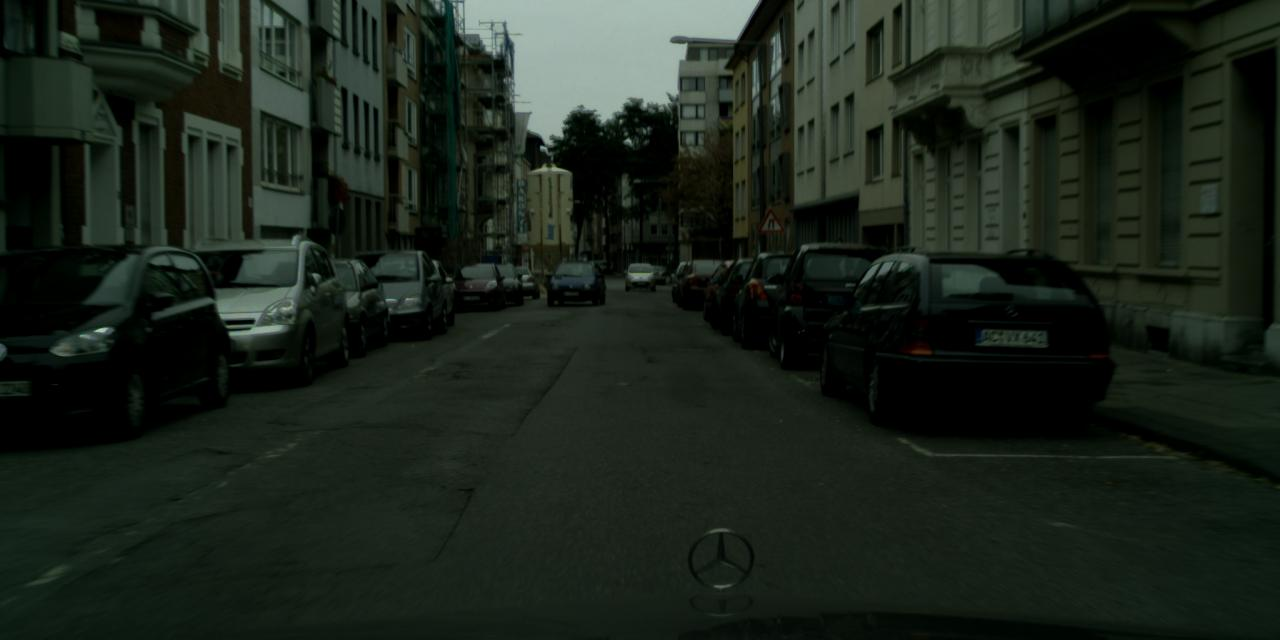ped: (819, 236, 854, 323)
